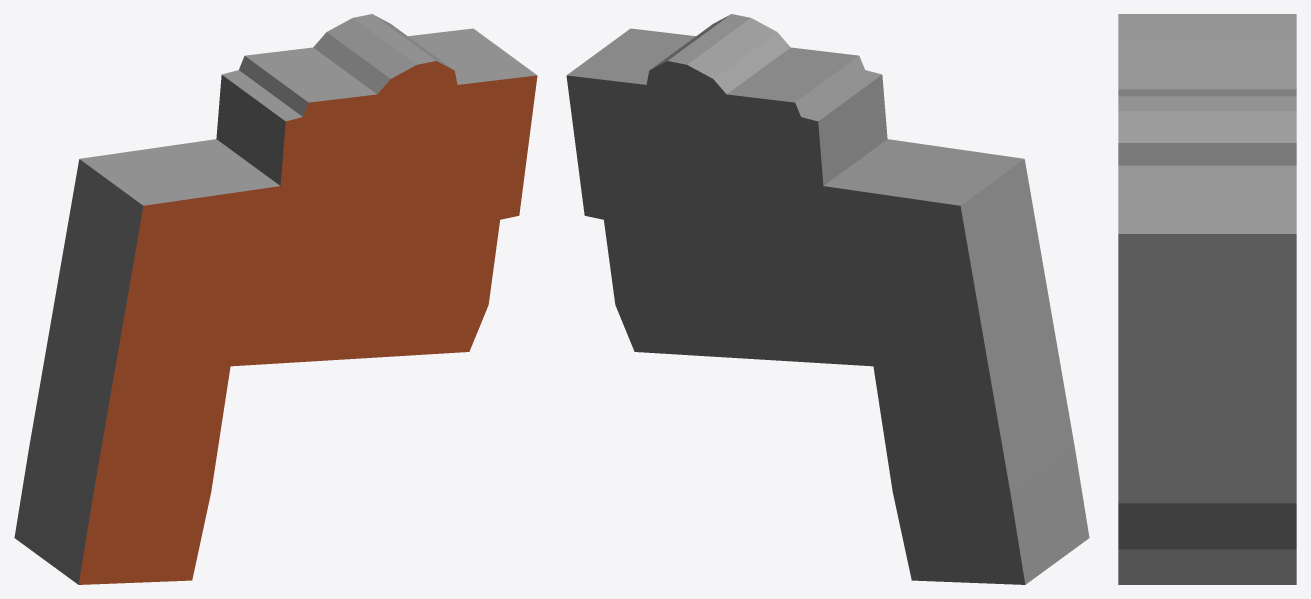
File: construction_1541_assumed_A_Casa_h6m.obj
3 renders of one model, left to right at view 1: azimuth 30°, elevation 25°; view 2: azimuth 150°, elevation 25°; view 3: azimuth 270°, elevation 25°, orthographic. The views are drawn at different scales.
Parts seen in each view (by area): view 1: construction_1541_assumed_A_Casa; view 2: construction_1541_assumed_A_Casa; view 3: construction_1541_assumed_A_Casa.
Part boxes in pixels (x1=…): construction_1541_assumed_A_Casa: x1=14, y1=14, x2=537, y2=584; construction_1541_assumed_A_Casa: x1=566, y1=14, x2=1089, y2=584; construction_1541_assumed_A_Casa: x1=1118, y1=14, x2=1296, y2=584.
Size of the model in its own units: 24.78 by 23.78 by 6.
